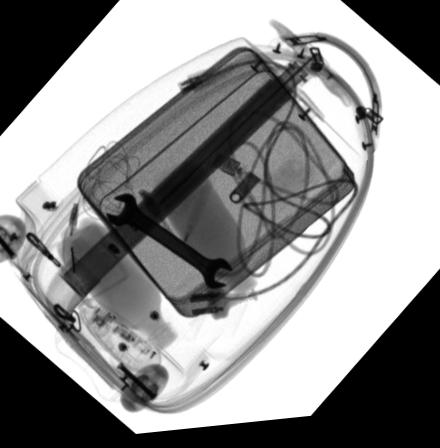Wrench: (105, 194, 234, 293)
